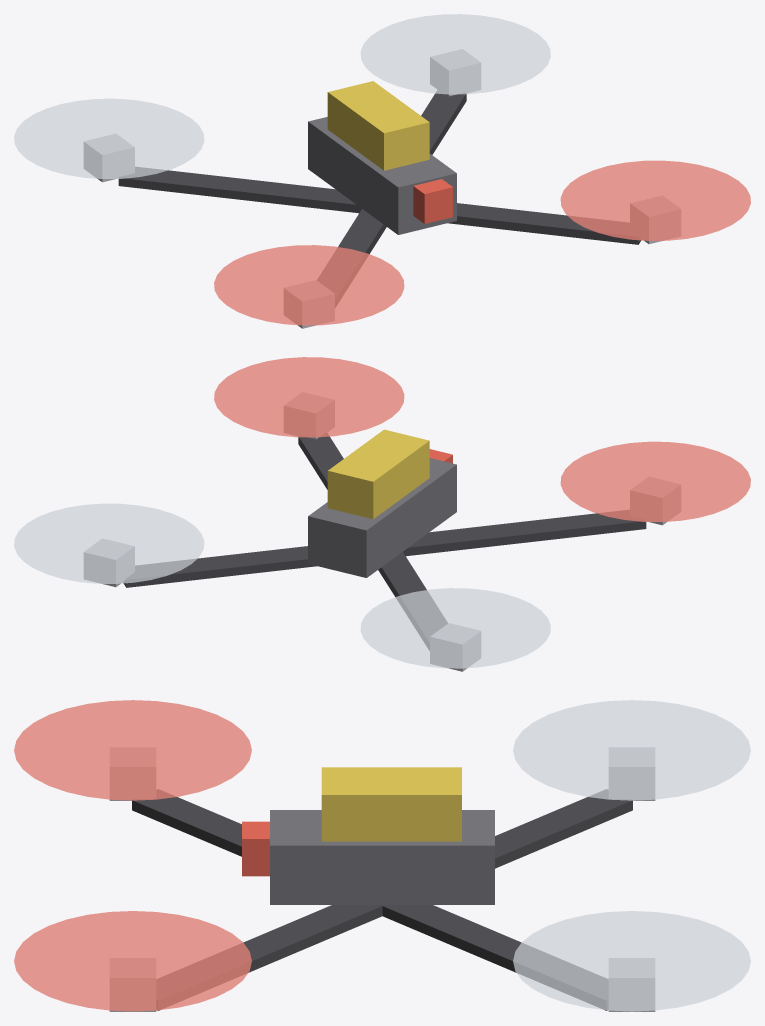
The model's file is quad.glb.
3 views of the same model, one above another, from view 1: azimuth 30°, elevation 25°; view 2: azimuth 150°, elevation 25°; view 3: azimuth 270°, elevation 25° (orthographic). The views are drawn at different scales.
Visible parts, largest first — view 1: prop0, prop1, prop2, prop3, body, battery, arm_rr, arm_fl, arm_fr, motor1, motor3, motor0 (+3 smaller); view 2: prop2, prop3, prop0, prop1, body, battery, arm_fr, arm_rl, arm_rr, motor3, motor2, motor1 (+2 smaller); view 3: prop1, prop3, prop0, prop2, body, battery, arm_rl, arm_fl, arm_rr, arm_fr, motor0, motor2 (+3 smaller).
Part boxes in pixels (<box>): prop0: <box>560,160,750,240</box>; prop1: <box>214,245,404,325</box>; prop2: <box>360,14,550,94</box>; prop3: <box>14,98,204,178</box>; body: <box>308,117,456,234</box>; battery: <box>327,81,429,170</box>; arm_rr: <box>118,167,361,213</box>; arm_fl: <box>448,203,641,244</box>; arm_fr: <box>317,209,386,307</box>; motor1: <box>284,280,334,328</box>; motor3: <box>84,134,134,182</box>; motor0: <box>630,196,680,244</box>; prop2: <box>14,503,204,583</box>; prop3: <box>360,588,550,668</box>; prop0: <box>214,357,404,437</box>; prop1: <box>560,441,750,521</box>; body: <box>308,458,456,577</box>; battery: <box>327,429,429,519</box>; arm_fr: <box>403,510,646,556</box>; arm_rl: <box>123,546,316,587</box>; arm_rr: <box>378,552,447,650</box>; motor3: <box>430,623,480,671</box>; motor2: <box>84,539,134,587</box>; motor1: <box>630,477,680,525</box>; prop1: <box>14,700,251,800</box>; prop3: <box>513,700,750,800</box>; prop0: <box>14,911,251,1011</box>; prop2: <box>513,911,750,1011</box>; body: <box>270,810,494,904</box>; battery: <box>321,767,461,841</box>; arm_rl: <box>382,905,608,1010</box>; arm_fl: <box>157,905,382,1010</box>; arm_rr: <box>495,789,632,868</box>; arm_fr: <box>132,789,241,856</box>; motor0: <box>109,958,156,1011</box>; motor2: <box>608,958,655,1011</box>.
Bounding box in the file's own units: 0.3933 × 0.073 × 0.3933.
